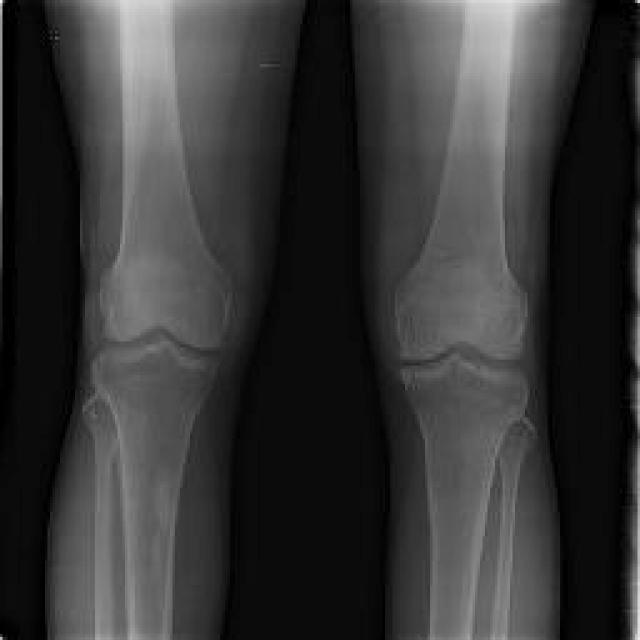normal: (392, 5, 526, 362), (99, 0, 230, 343), (89, 347, 218, 640), (402, 355, 534, 640), (84, 396, 114, 640)
